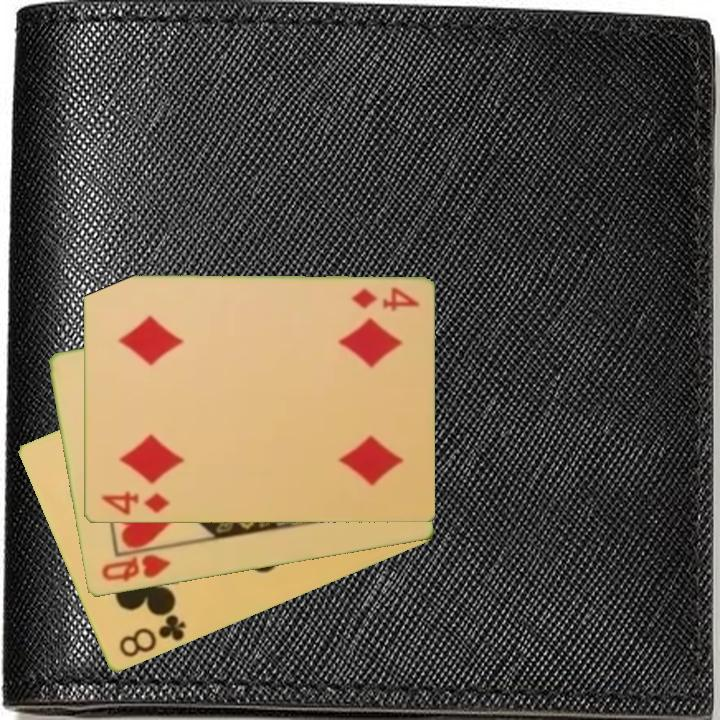4d: (97, 488, 172, 519), (348, 284, 422, 313)
8c: (115, 611, 189, 661)
Qh: (98, 551, 174, 585)
